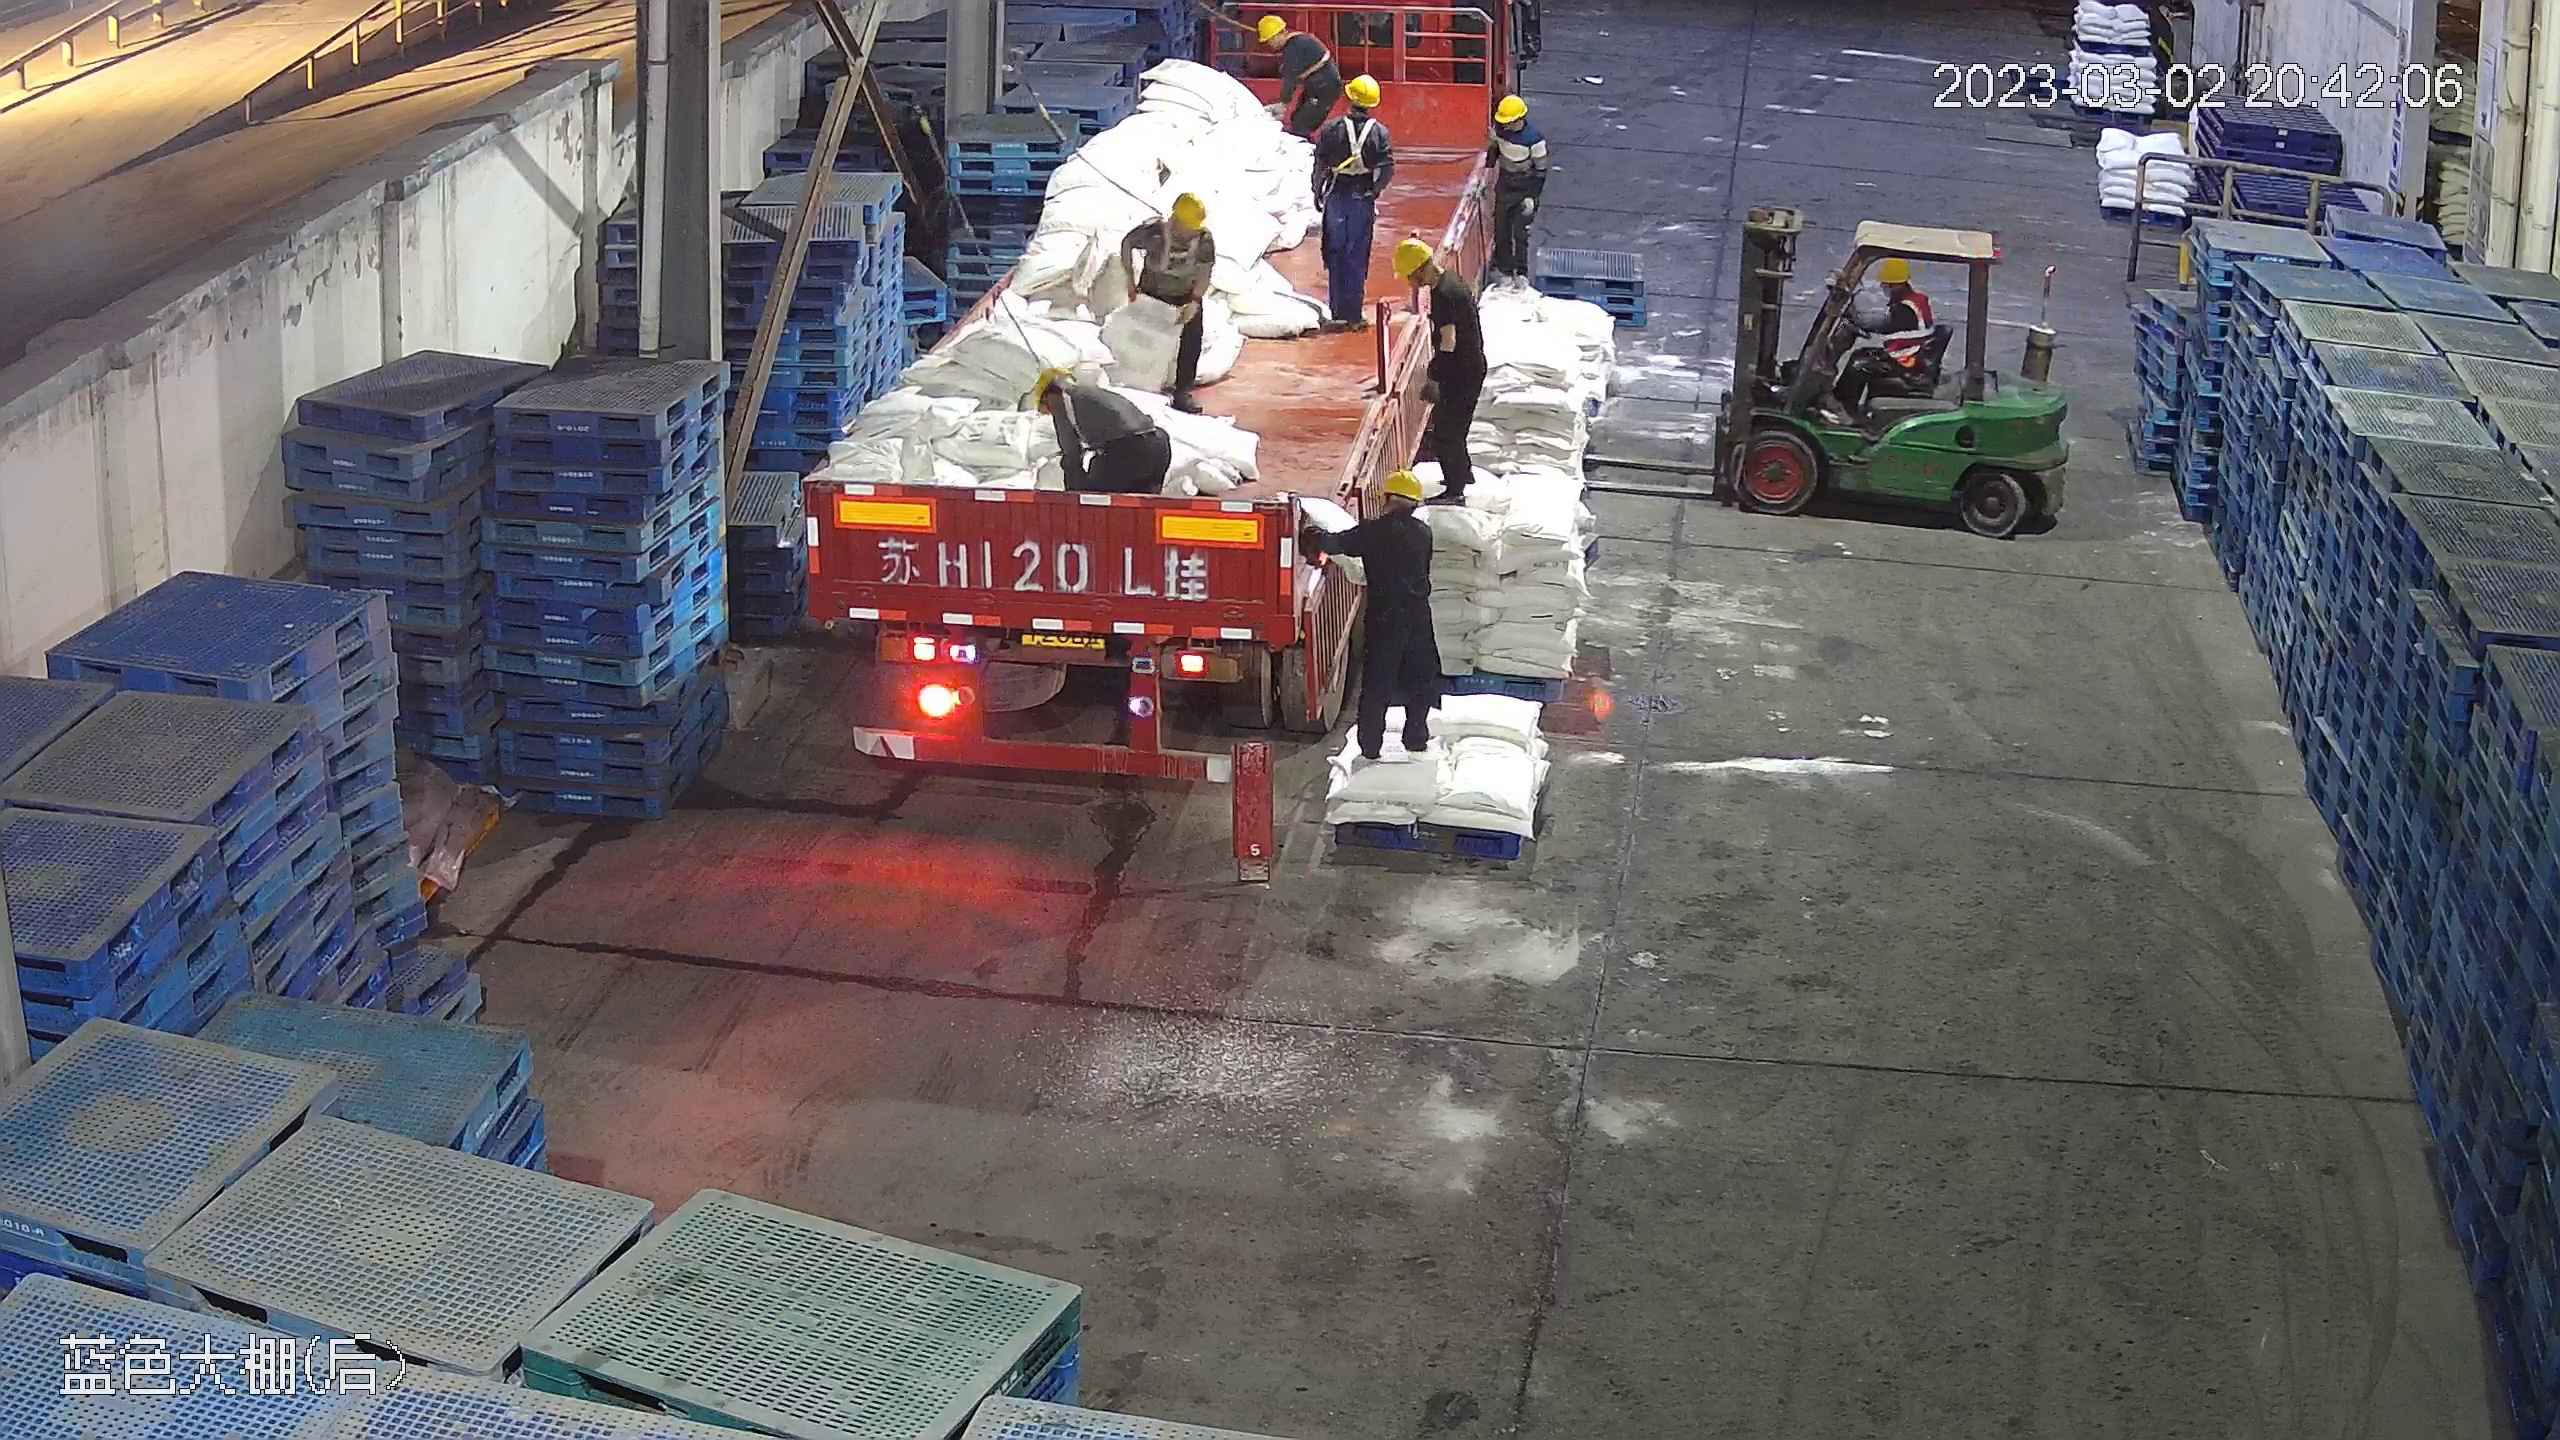belt: (1322, 114, 1382, 176), (1151, 224, 1203, 280), (1288, 25, 1338, 76), (1058, 382, 1092, 449)
head: (1350, 468, 1436, 562), (1389, 236, 1475, 316), (1027, 364, 1123, 434), (1129, 188, 1214, 259), (1317, 75, 1390, 152), (1869, 257, 1931, 329), (1485, 91, 1541, 159), (1253, 15, 1312, 59)
helmet: (1391, 235, 1436, 284), (1028, 366, 1070, 412), (1377, 466, 1427, 502), (1168, 189, 1209, 231), (1342, 77, 1384, 110), (1492, 92, 1525, 121), (1873, 256, 1910, 282), (1253, 14, 1282, 41)
people: (1326, 464, 1440, 764), (1384, 234, 1485, 503), (1103, 185, 1218, 410), (1308, 74, 1396, 334), (1033, 364, 1168, 516), (1824, 254, 1936, 415), (1476, 92, 1550, 290), (1256, 7, 1350, 147)
truck: (813, 7, 1483, 795)
